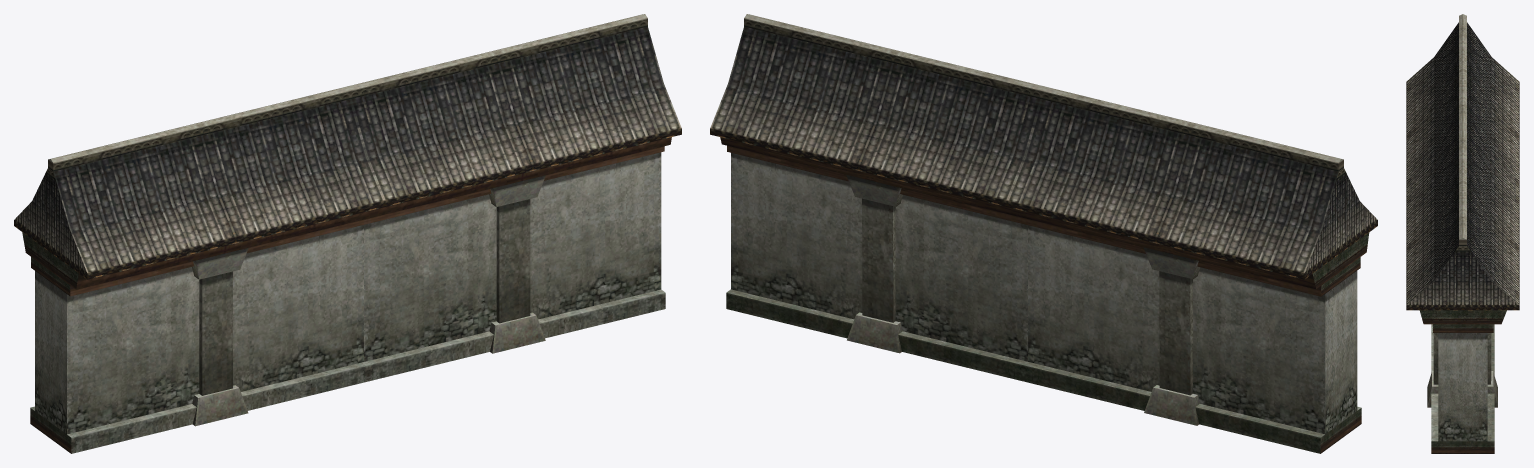
Rendered from b1-038-wall-lin2.fbx.
3 renders of one model, left to right at view 1: azimuth 30°, elevation 25°; view 2: azimuth 150°, elevation 25°; view 3: azimuth 270°, elevation 25°, orthographic. The views are drawn at different scales.
Visible parts, largest first — view 1: b1-038-wall; view 2: b1-038-wall; view 3: b1-038-wall.
Boxes of the visible parts, x1=… form: b1-038-wall: x1=14, y1=14, x2=681, y2=453; b1-038-wall: x1=710, y1=14, x2=1377, y2=453; b1-038-wall: x1=1406, y1=14, x2=1519, y2=453.
Bounding box in the file's own units: 10 × 4.5 × 2.13.
